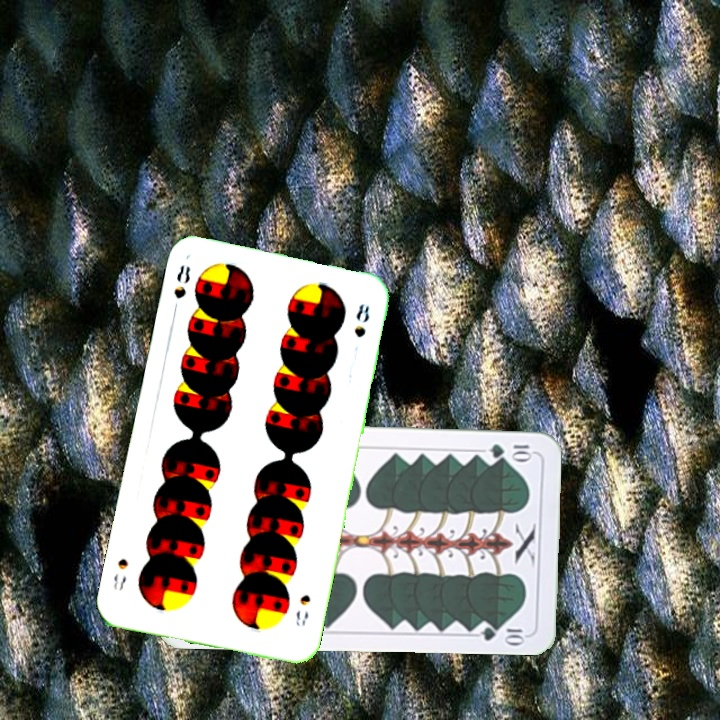G10: (485, 440, 534, 461)
S8: (169, 261, 193, 317), (291, 590, 313, 629)
